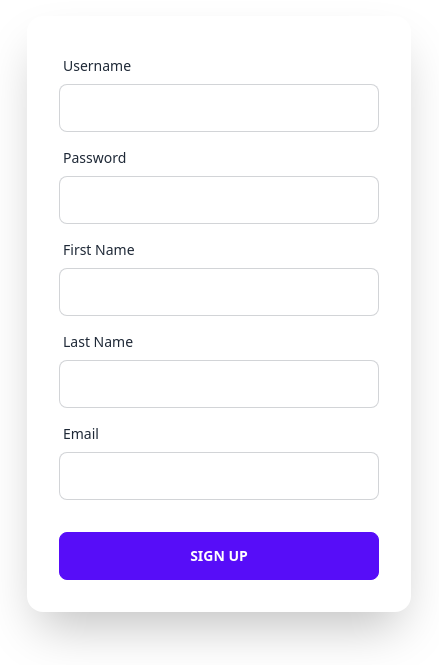
Test: Tests Signup › handles error
Expected: the password field labelled "Password" is empty, [59,176,379,224]
Expected: the field labelled "First Name" is empty, [59,268,379,316]
In the field labelled "Username": [219, 108] box [59,84,379,132], type "new user"
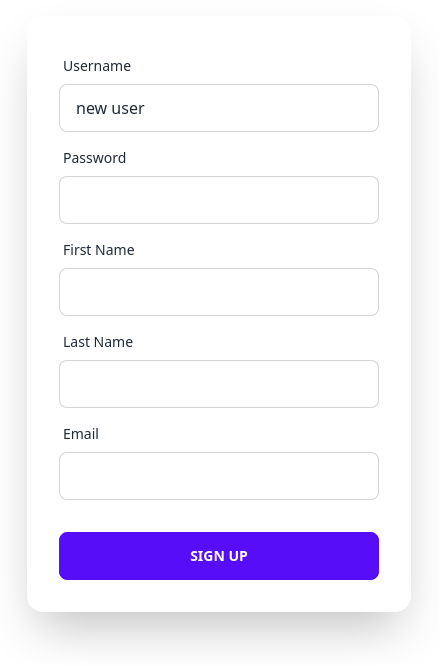
In the password field labelled "Password": [219, 200] box [59,176,379,224], type "new password"
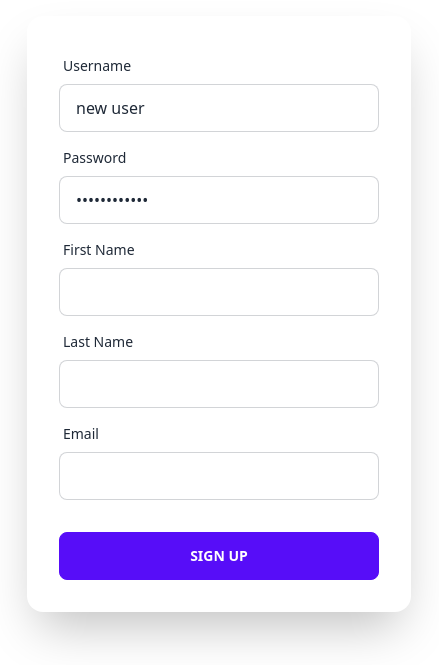
In the field labelled "First Name": [219, 292] box [59,268,379,316], type "new firstName"
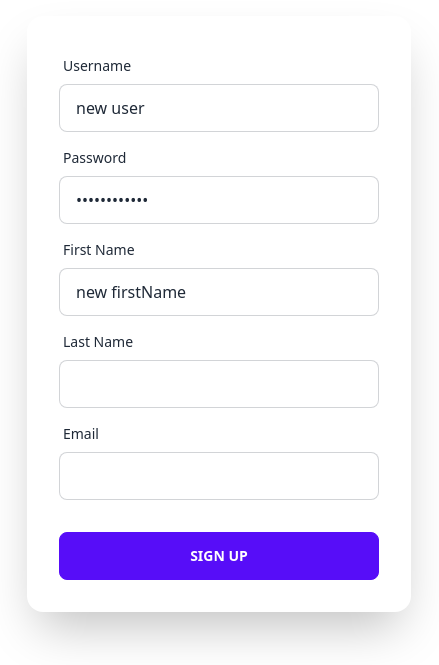
In the field labelled "Last Name": [219, 384] box [59,360,379,408], type "new lastName"
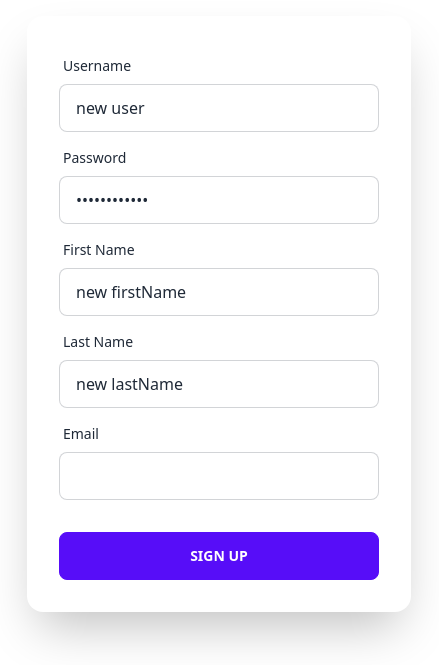
In the field labelled "Email": [219, 476] box [59,452,379,500], type "new email"
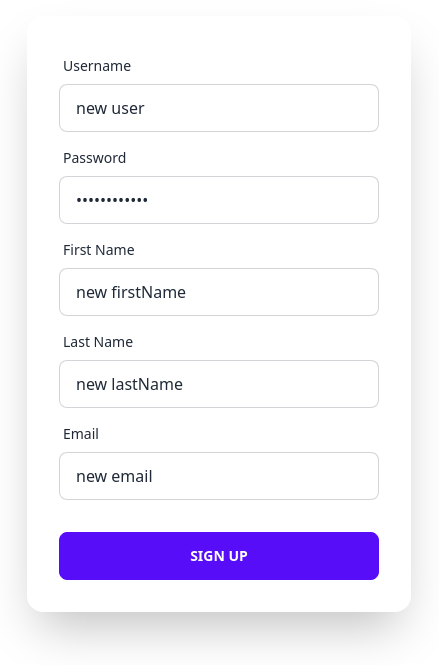
Submit the form with test id "signup-form"
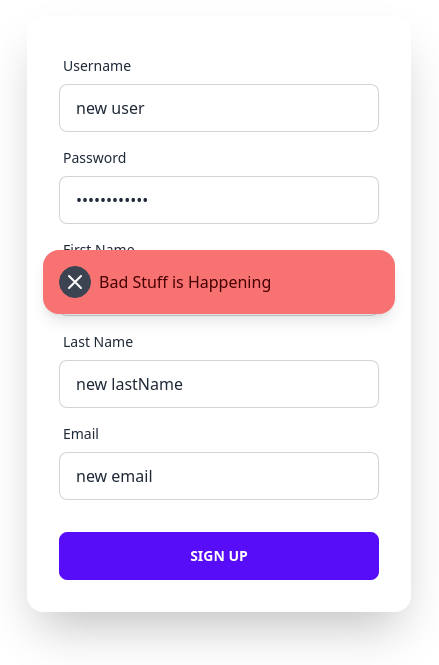
Expected: the element with test id "alert-messages" reads "Bad Stuff is Happening", [99,271,271,293]
